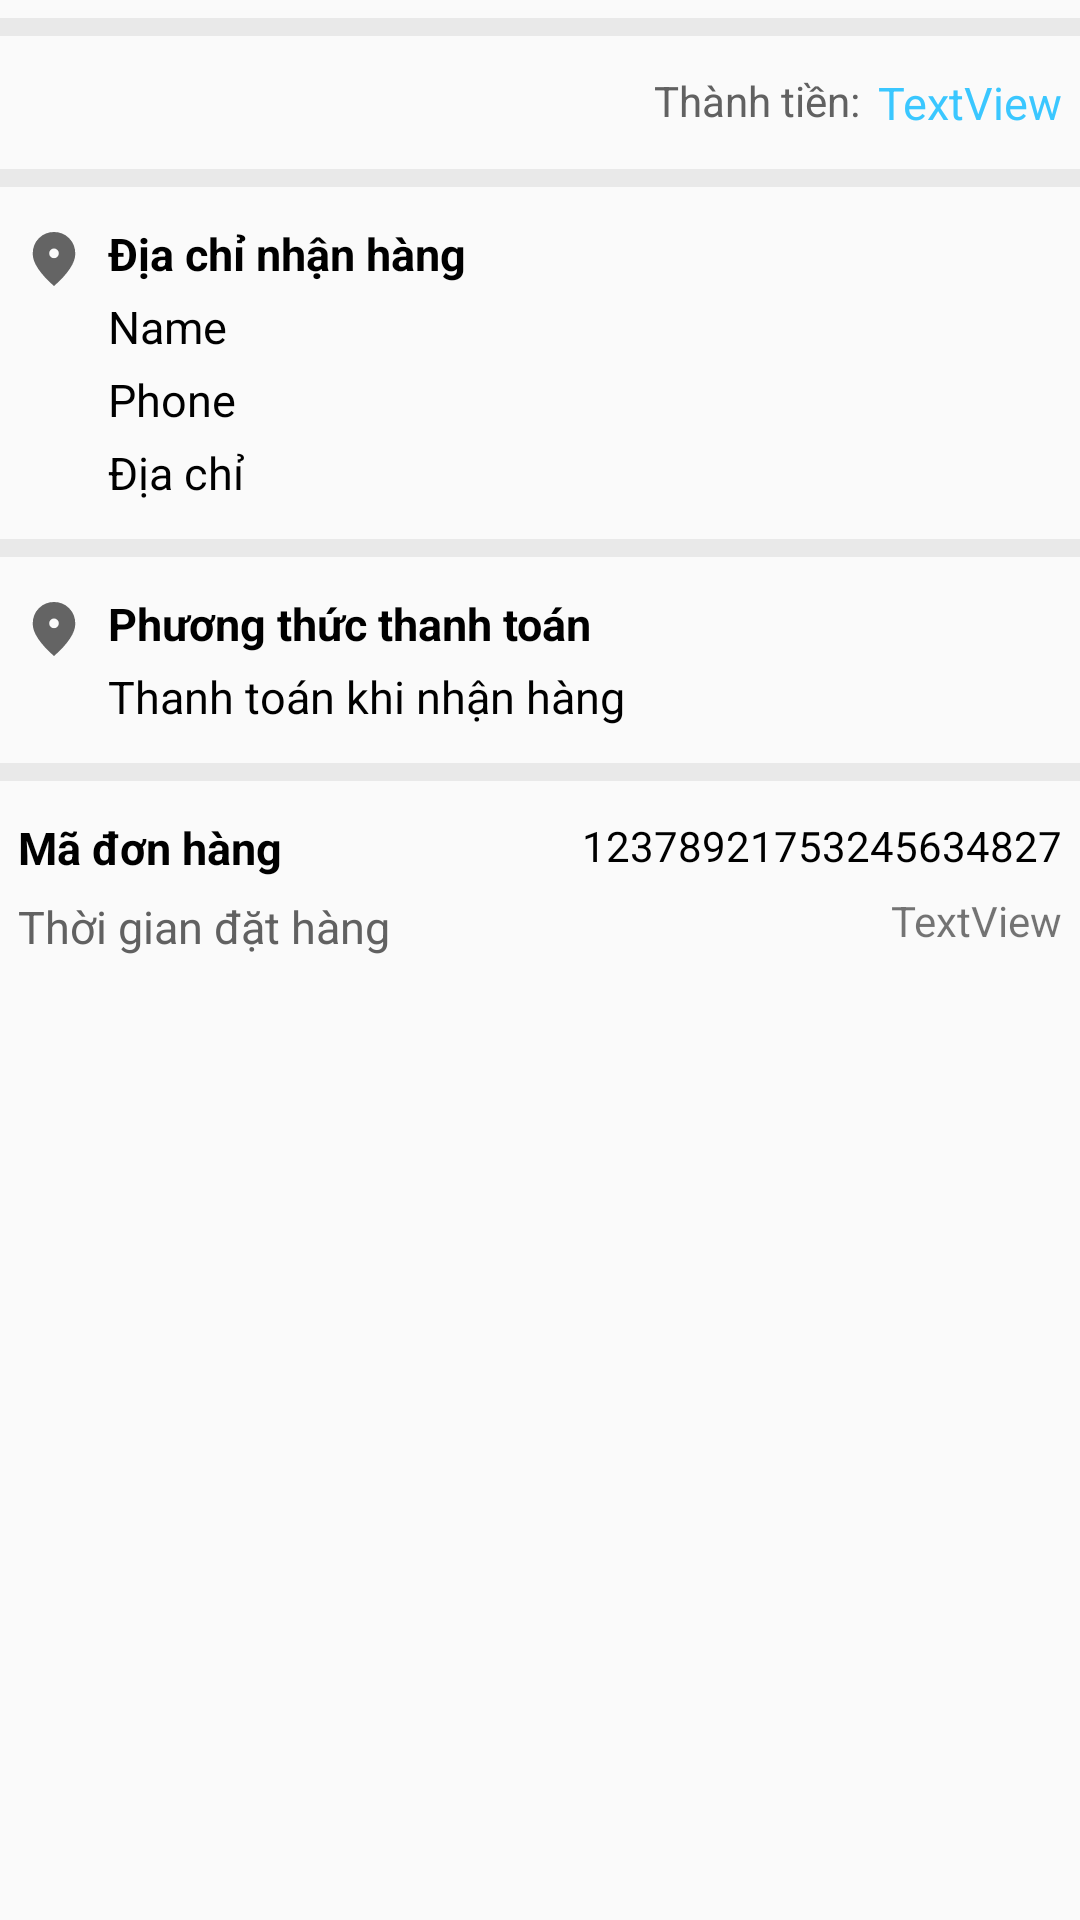

Where icons sit on this 1080w x 1920h app screen, as (x1, y1, x2, y2):
location: (32, 232, 76, 286), (32, 602, 76, 656)
